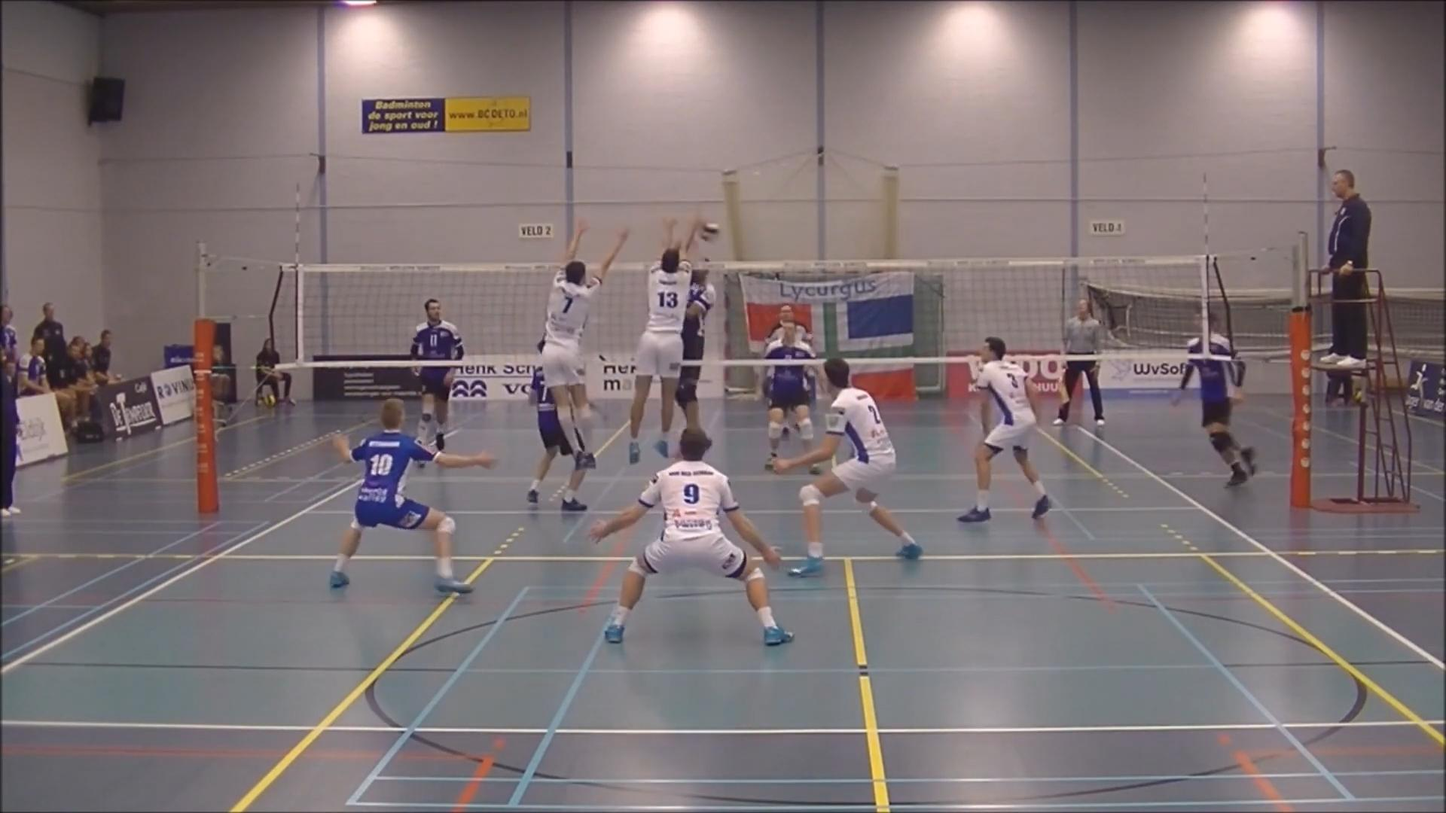attacco: (673, 220, 728, 457)
muro: (543, 217, 633, 481), (631, 211, 699, 459)
